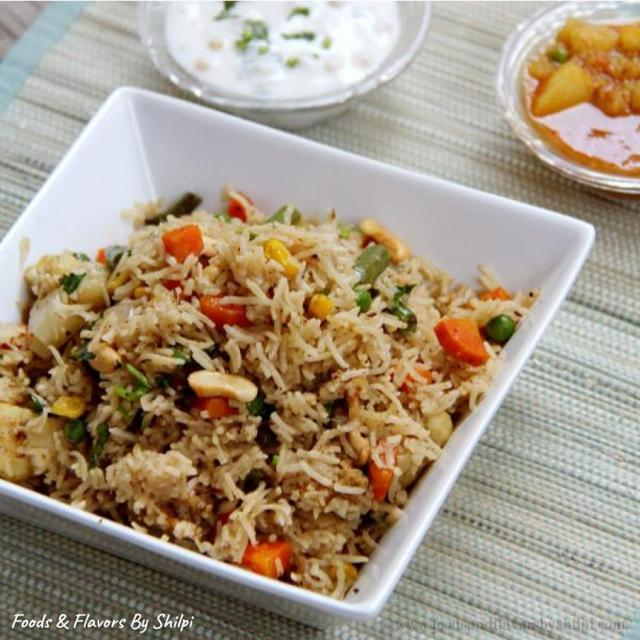veg palav: (0, 165, 548, 613)
